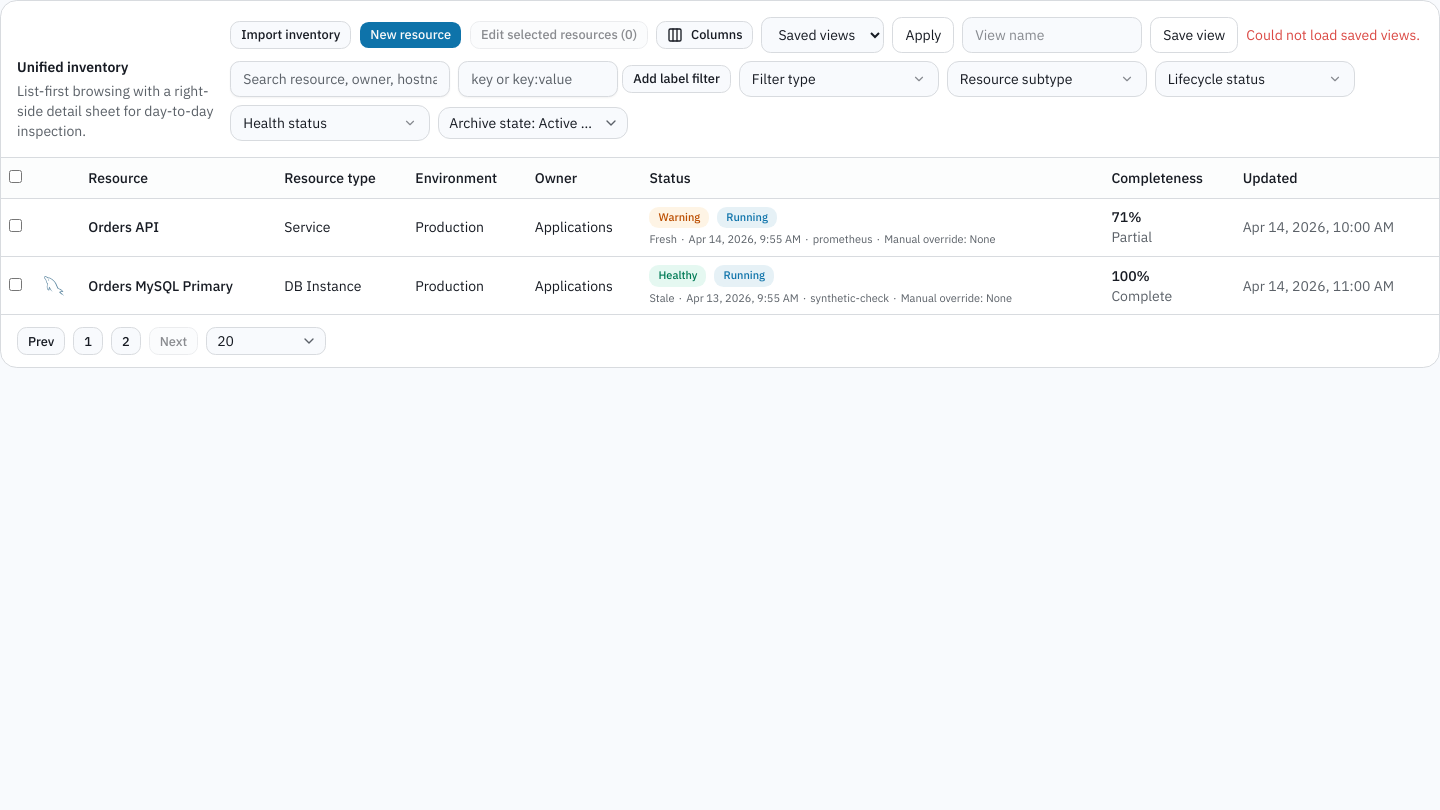
Test: ResourceTable › uses localized feedback for preview item error codes and fallbacks
The image size is (1440, 810).
Click the checkbox named "Select Orders API" at (16, 226), box [9,219,22,232]
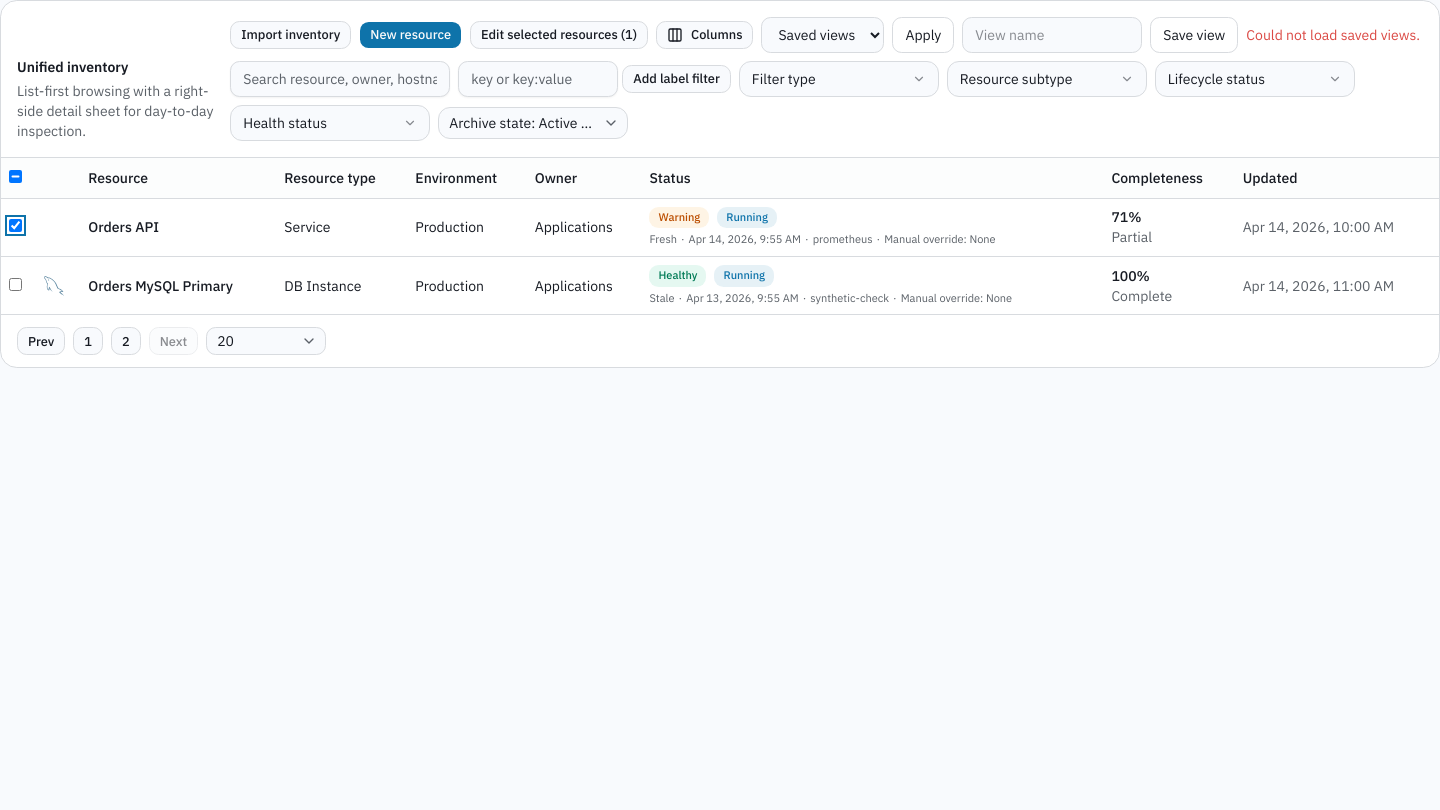
Click the button "Edit selected resources (1)" at (559, 35), box [470,21,648,49]
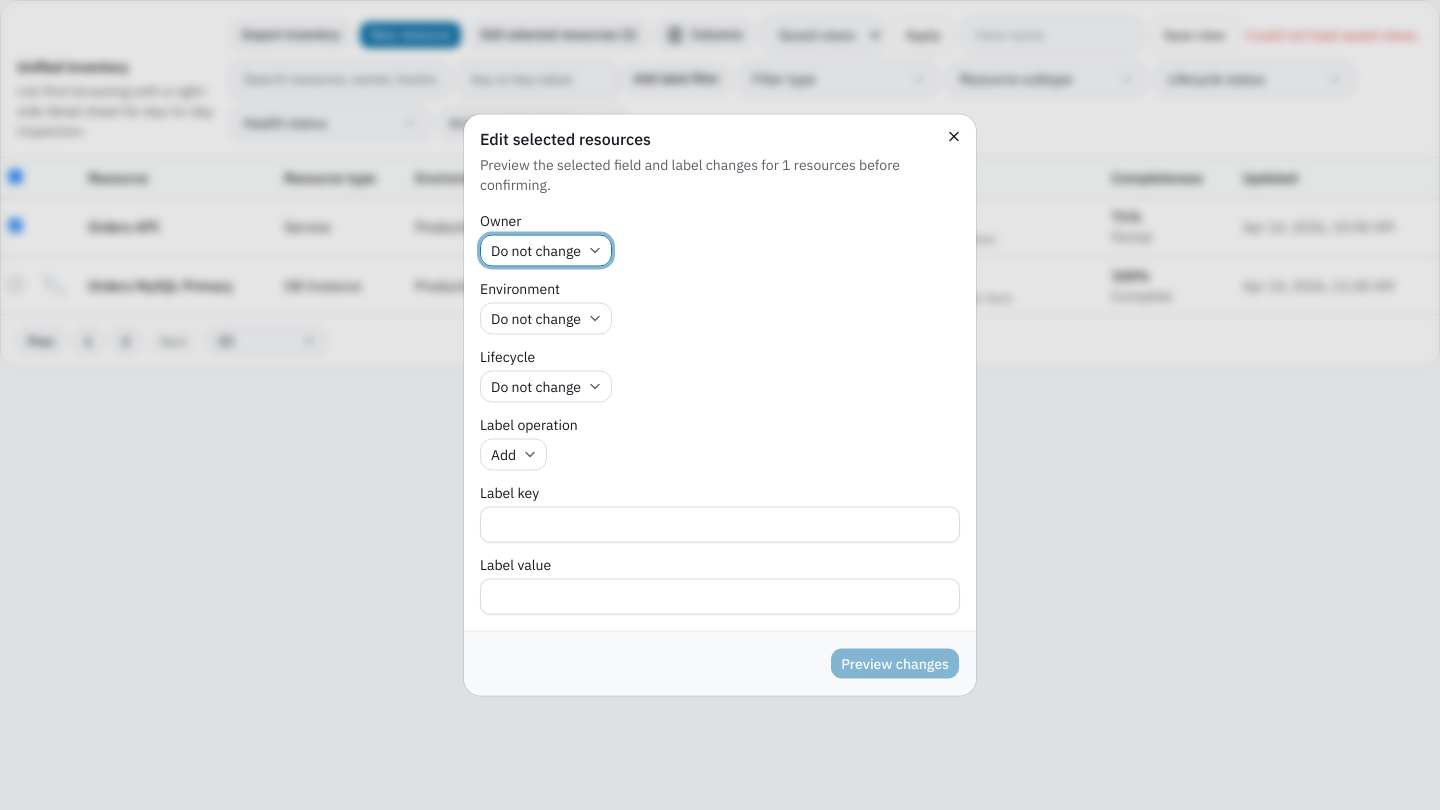
Type "team" into the field labelled "Label key" at (720, 524), box [480,506,960,542]
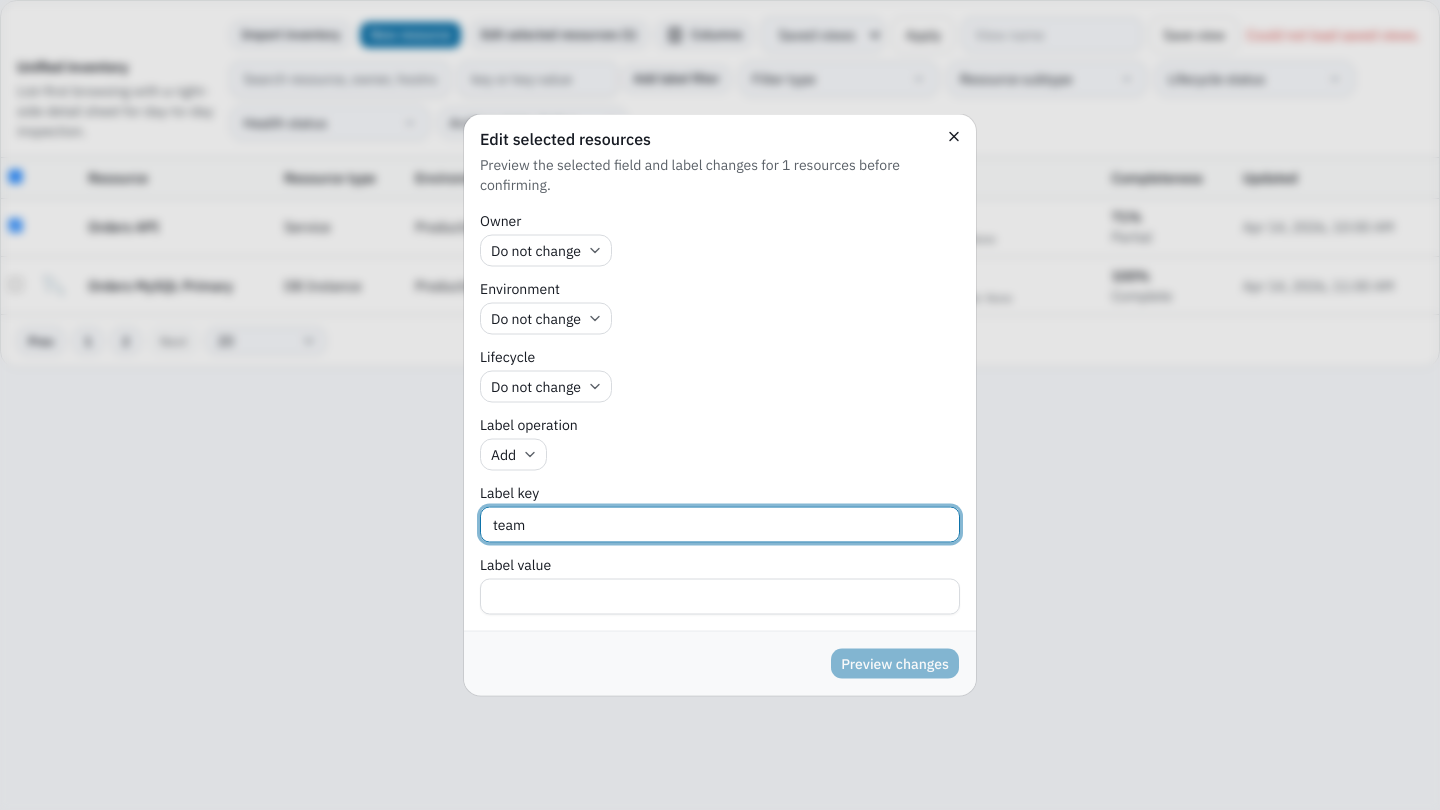
Type "platform" into the field labelled "Label value" at (720, 596), box [480,578,960,614]
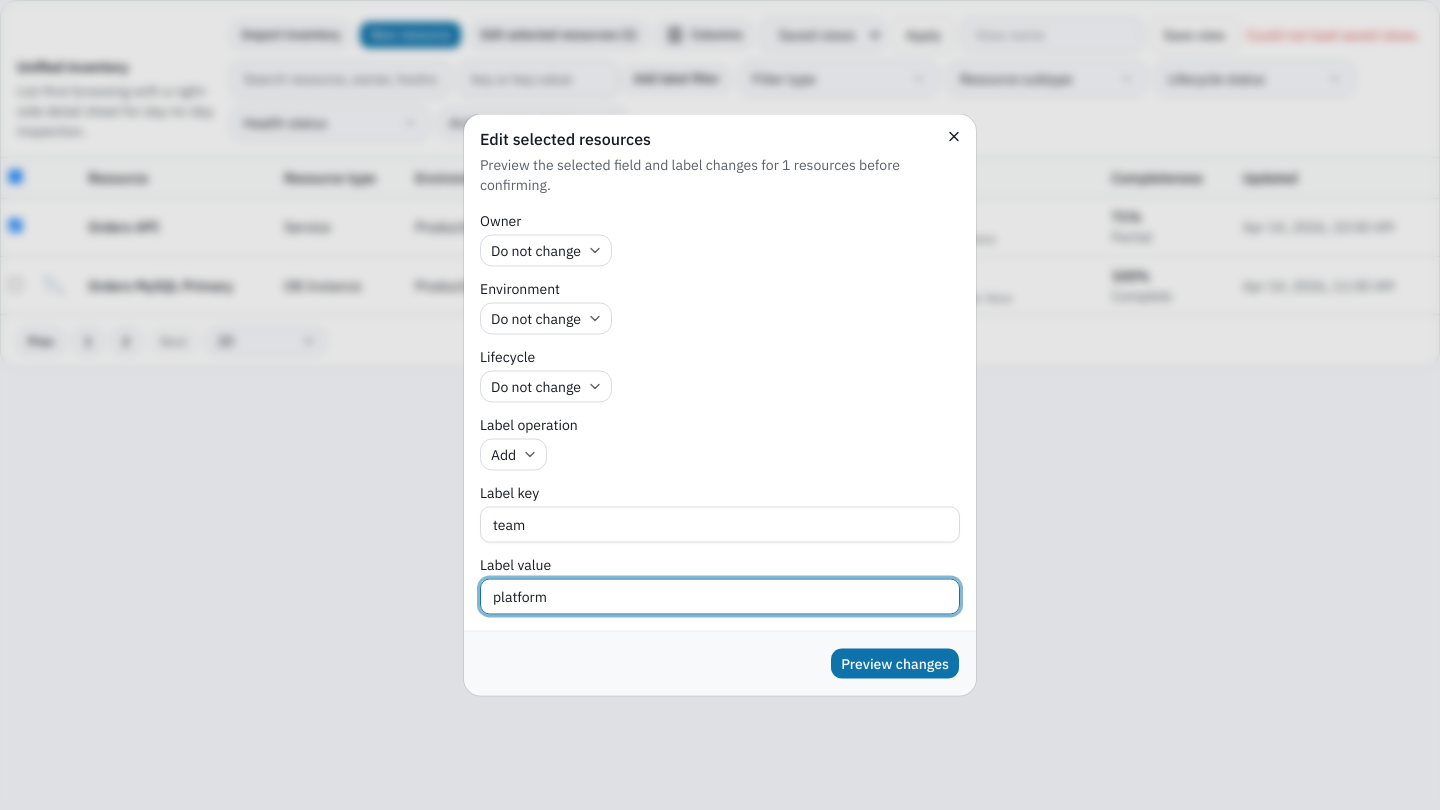
Click the button "Preview changes" at (895, 664), box [830,648,960,680]
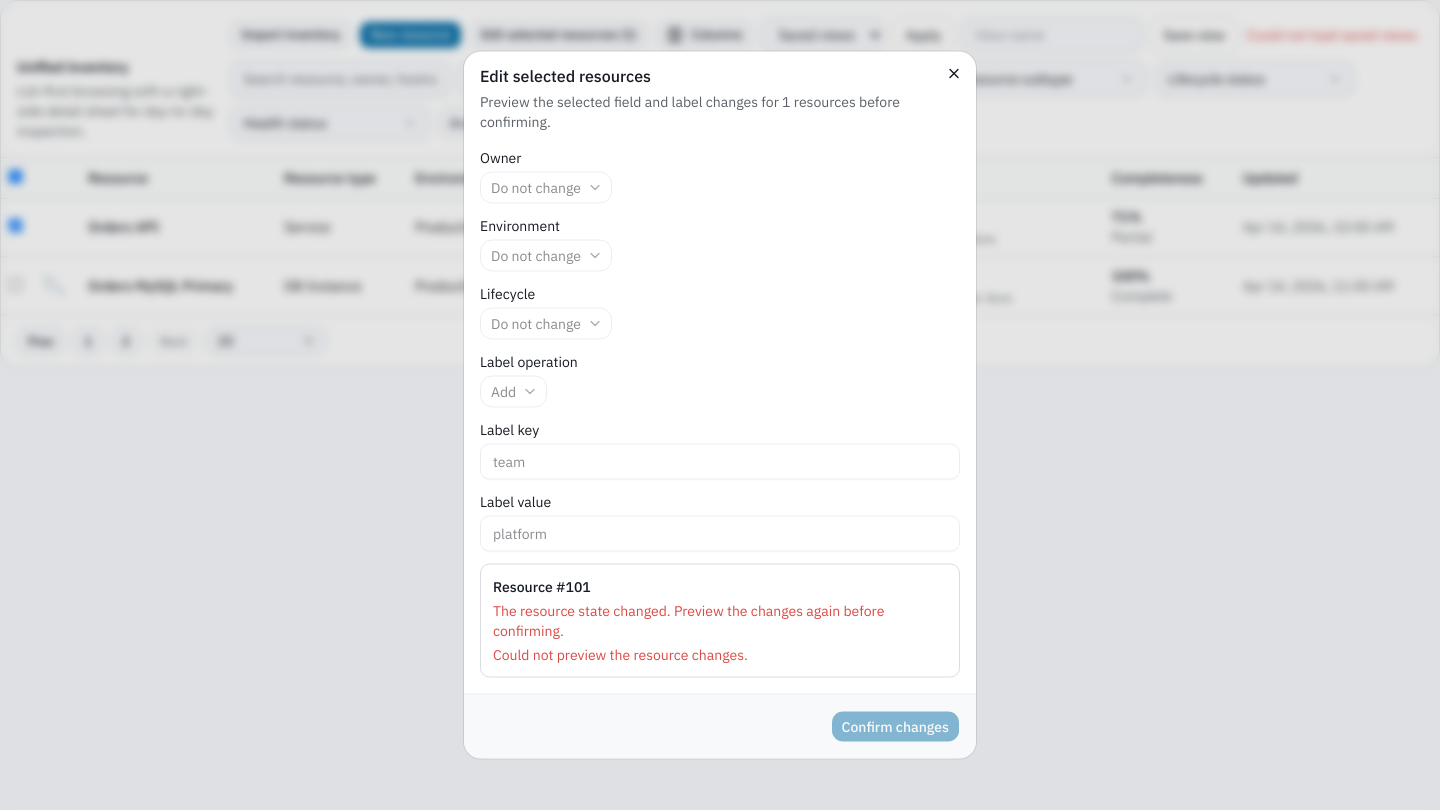
expect the text "The resource state changed. Preview the changes again before confirming." is shown: met, box [493,600,947,640]
expect the text "Could not preview the resource changes." is shown: met, box [493,646,748,664]
